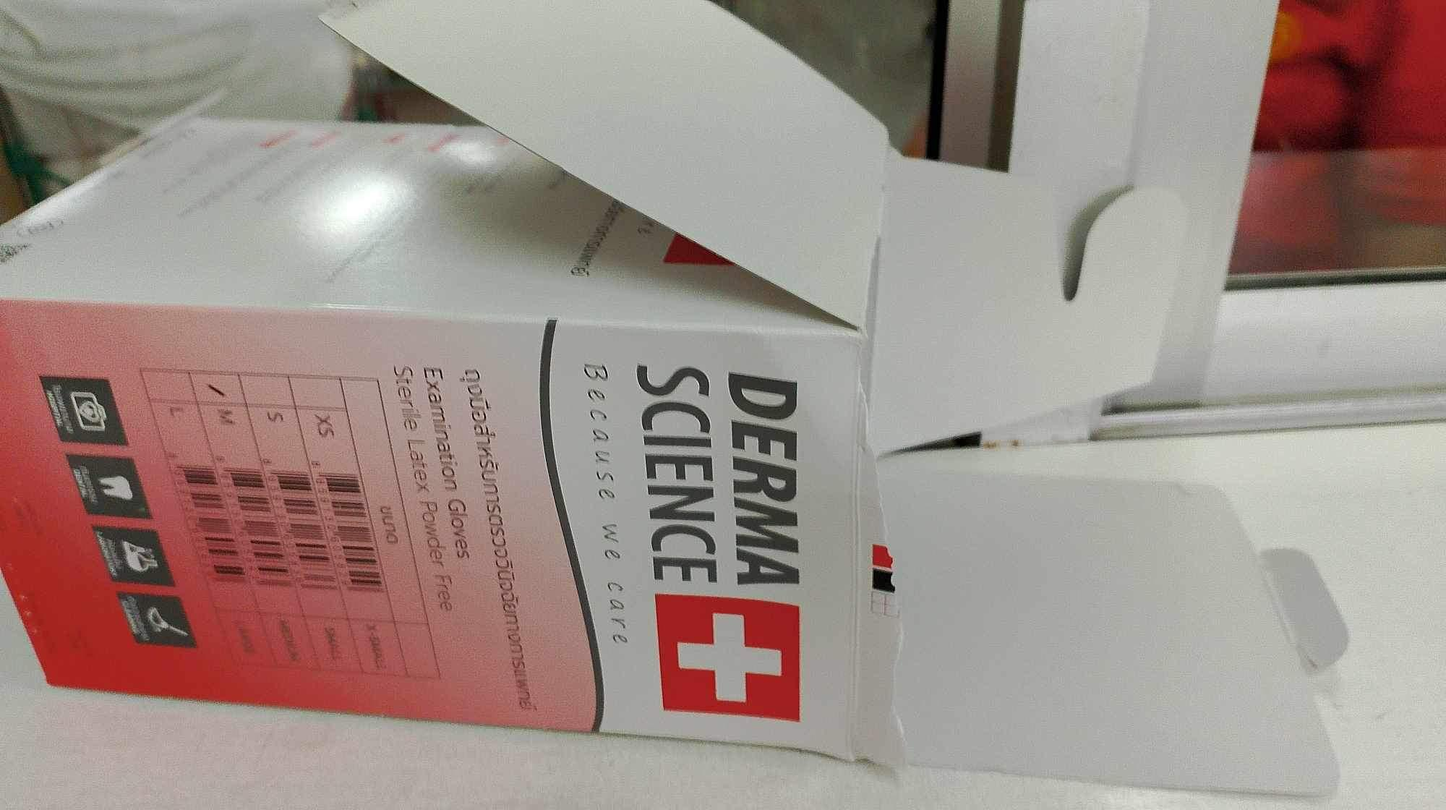Infectious: (1, 114, 905, 770)
Sharps: (875, 376, 1442, 463)
